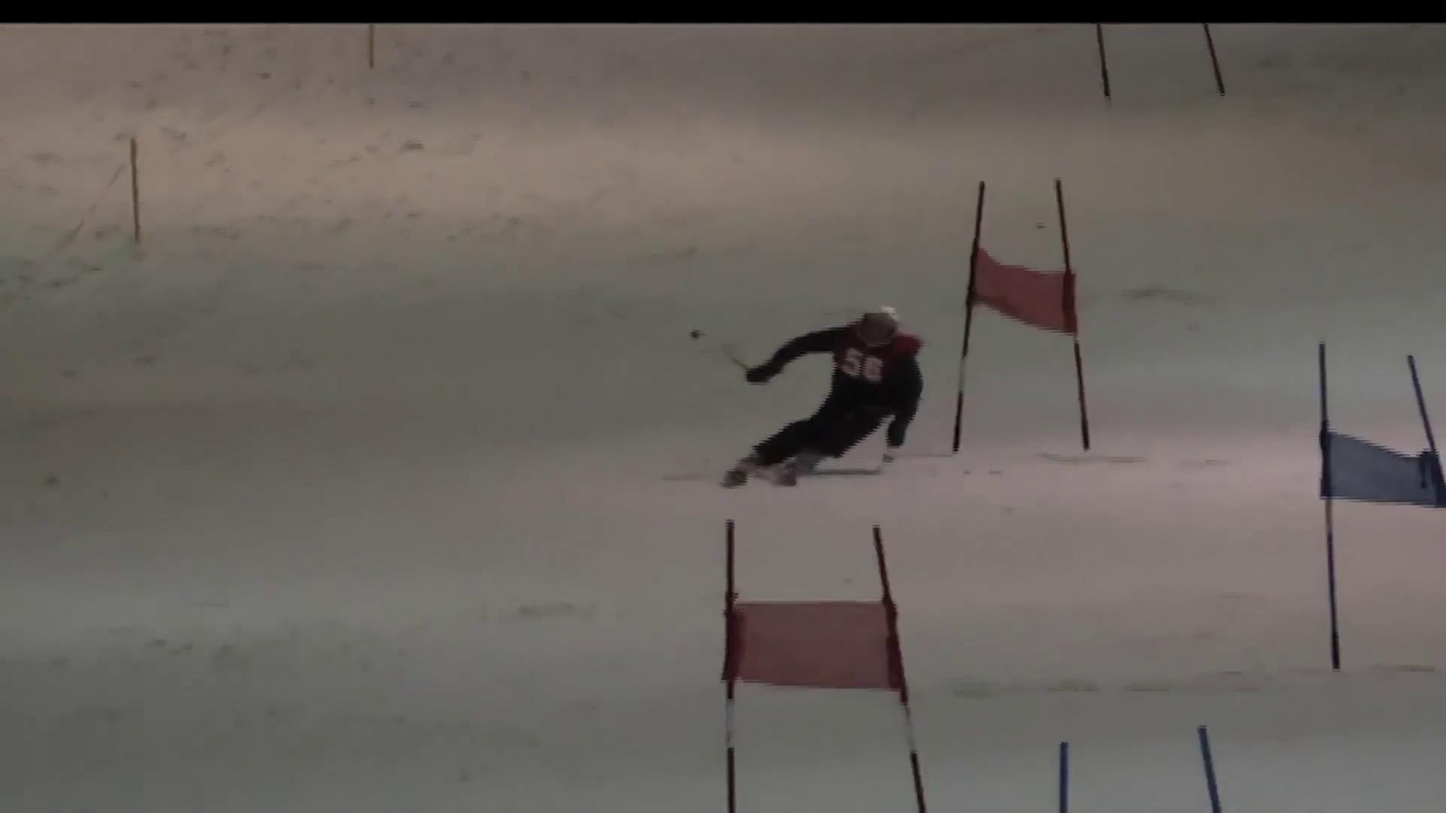gate: (720, 519, 926, 812), (1319, 344, 1445, 670), (951, 178, 1090, 452)
